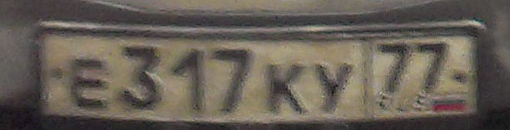character: (207, 47, 254, 116), (264, 60, 311, 119), (64, 54, 110, 113), (313, 61, 359, 120), (122, 44, 163, 109), (173, 47, 207, 121), (414, 40, 451, 94), (378, 43, 412, 94)
